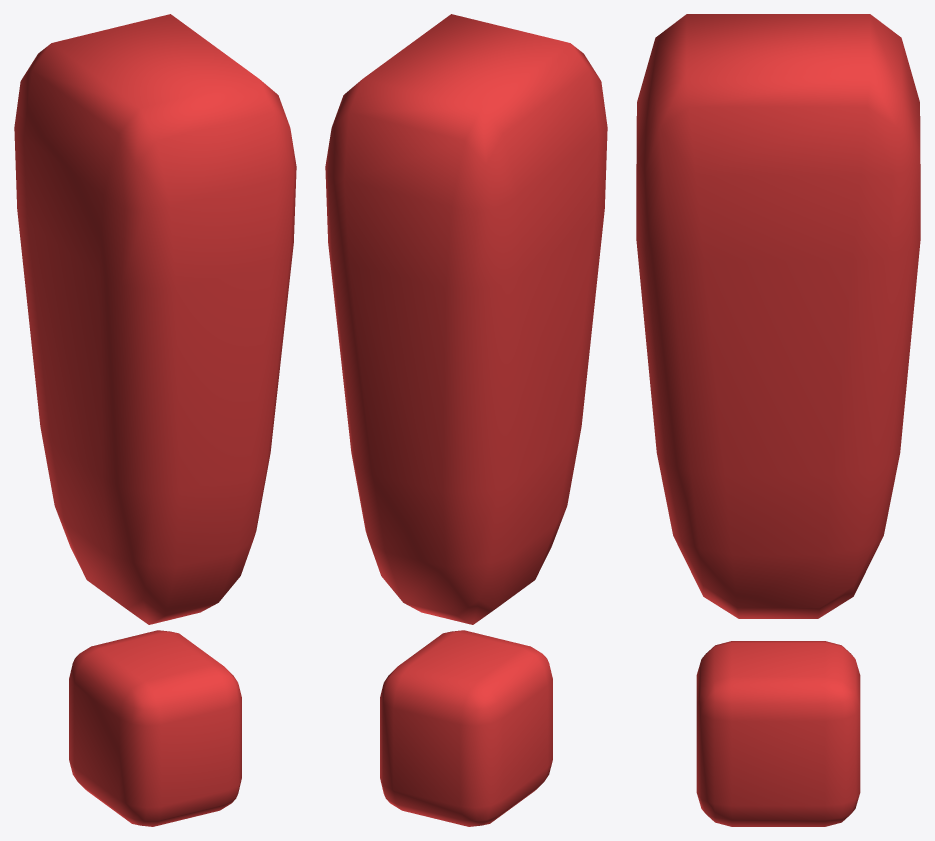
The model's file is 느낌표.fbx.
The picture shows the model from 3 angles, left to right: view 1: azimuth 30°, elevation 25°; view 2: azimuth 150°, elevation 25°; view 3: azimuth 270°, elevation 25°; orthographic projection. The views are drawn at different scales.
Parts seen in each view (by area): view 1: Cube, Cube.001; view 2: Cube, Cube.001; view 3: Cube, Cube.001.
Boxes of the visible parts, bbox=[...] form: Cube: bbox=[14, 14, 296, 624]; Cube.001: bbox=[69, 630, 241, 826]; Cube: bbox=[325, 14, 607, 624]; Cube.001: bbox=[380, 630, 552, 826]; Cube: bbox=[636, 14, 920, 618]; Cube.001: bbox=[696, 641, 860, 826].
Bounding box in the file's own units: 29.5 × 113 × 38.06.
